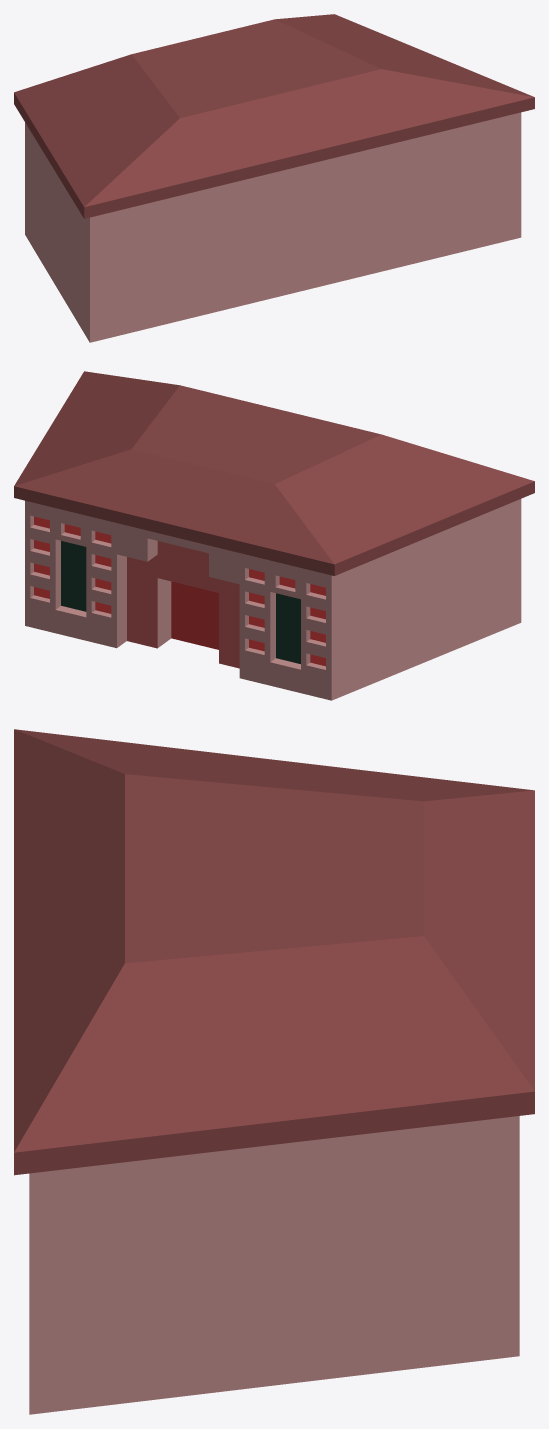
File: nightclub.fbx
The picture shows the model from 3 angles, top to bottom: view 1: azimuth 30°, elevation 25°; view 2: azimuth 150°, elevation 25°; view 3: azimuth 270°, elevation 25°; orthographic projection. The views are drawn at different scales.
Parts seen in each view (by area): view 1: Club; view 2: Club; view 3: Club.
Part boxes in pixels (bbox=[...]): Club: bbox=[14, 14, 534, 342]; Club: bbox=[14, 371, 534, 700]; Club: bbox=[14, 729, 534, 1414].
Bounding box in the file's own units: 3403 × 1287 × 1769.
